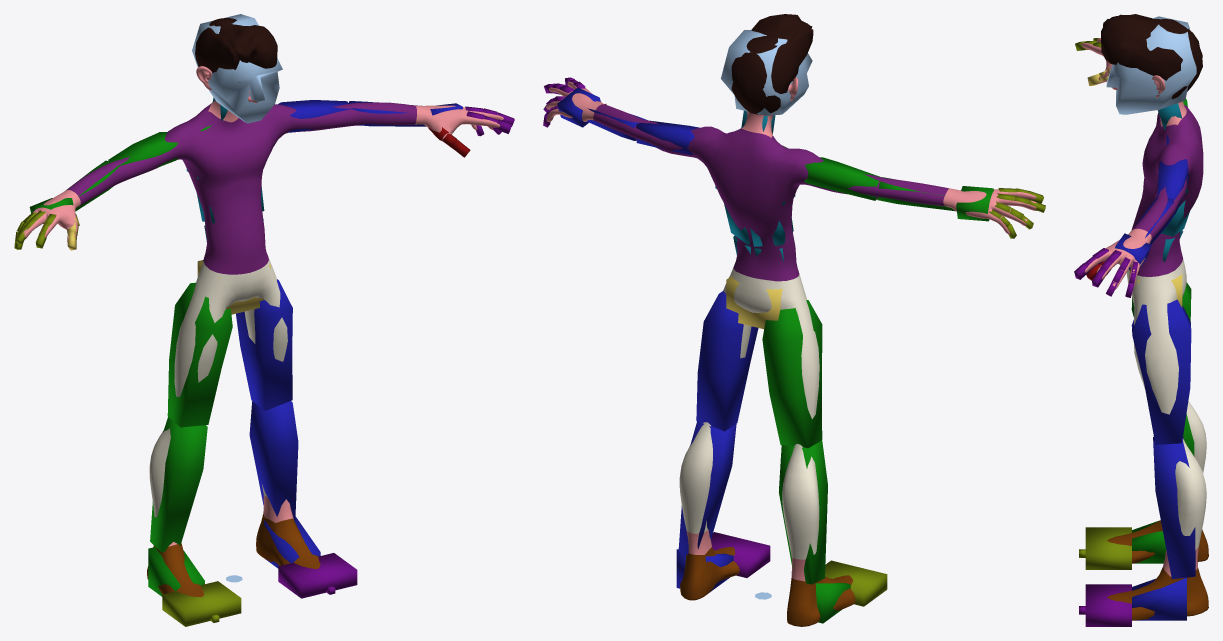
The model's file is Character.obj.
The picture shows the model from 3 angles, left to right: view 1: azimuth 30°, elevation 25°; view 2: azimuth 150°, elevation 25°; view 3: azimuth 270°, elevation 25°; orthographic projection.
Visible parts, largest first — view 1: Animation_Guy, Bip01_R_Thigh, Bip01_L_Thigh, Bip01_R_Calf, Bip01_L_Calf, Bip01_Head, Hair, Bip01_L_Toe0, Bip01_R_Toe0, Bip01_R_Foot, Bip01_R_UpperArm, Bip01_L_UpperArm (+1 smaller); view 2: Animation_Guy, Bip01_R_Thigh, Bip01_L_Thigh, Hair, Bip01_L_Calf, Bip01_R_Calf, Bip01_Head, Bip01_R_UpperArm, Bip01_R_Toe0, Bip01_L_Toe0, Bip01_Pelvis, Bip01_L_UpperArm (+3 smaller); view 3: Animation_Guy, Hair, Bip01_Head, Bip01_L_Thigh, Bip01_L_Calf, Bip01_L_Toe0, Bip01_R_Toe0, Bip01_L_Foot, Bip01_L_UpperArm, Bip01_R_Foot, Bip01_Spine1, Bip01_L_Hand (+5 smaller).
Part boxes in pixels (x1,y1,x2,y2): Animation_Guy: [23, 66, 503, 596]; Bip01_R_Thigh: [167, 282, 232, 427]; Bip01_L_Thigh: [236, 279, 292, 410]; Bip01_R_Calf: [150, 417, 207, 552]; Bip01_L_Calf: [249, 401, 298, 520]; Bip01_Head: [192, 14, 282, 123]; Hair: [195, 18, 277, 72]; Bip01_L_Toe0: [278, 553, 357, 598]; Bip01_R_Toe0: [162, 581, 241, 626]; Bip01_R_Foot: [148, 547, 204, 596]; Bip01_R_UpperArm: [108, 132, 178, 168]; Bip01_L_UpperArm: [277, 100, 351, 132]; Animation_Guy: [546, 77, 1037, 626]; Bip01_R_Thigh: [762, 300, 822, 448]; Bip01_L_Thigh: [696, 290, 758, 431]; Hair: [731, 14, 813, 114]; Bip01_L_Calf: [678, 421, 736, 554]; Bip01_R_Calf: [779, 440, 827, 584]; Bip01_Head: [721, 30, 812, 115]; Bip01_R_UpperArm: [804, 157, 880, 200]; Bip01_R_Toe0: [825, 560, 887, 606]; Bip01_L_Toe0: [711, 532, 770, 577]; Bip01_Pelvis: [726, 276, 782, 329]; Bip01_L_UpperArm: [636, 120, 699, 154]; Animation_Guy: [1081, 38, 1208, 620]; Hair: [1101, 14, 1202, 99]; Bip01_Head: [1106, 16, 1196, 114]; Bip01_L_Thigh: [1131, 299, 1191, 444]; Bip01_L_Calf: [1153, 436, 1195, 579]; Bip01_L_Toe0: [1085, 584, 1131, 626]; Bip01_R_Toe0: [1085, 527, 1131, 569]; Bip01_L_Foot: [1132, 577, 1186, 620]; Bip01_L_UpperArm: [1157, 159, 1189, 214]; Bip01_R_Foot: [1132, 520, 1166, 563]; Bip01_Spine1: [1161, 200, 1189, 236]; Bip01_L_Hand: [1115, 233, 1151, 269].
Size of the model in its own units: 98.66 by 107 by 22.99.
